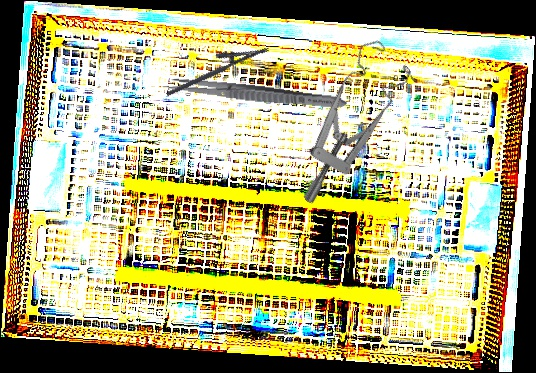Dressing Forceps: (161, 74, 349, 113)
Needle Holder: (159, 33, 271, 97)
Speculum: (251, 31, 439, 206)
